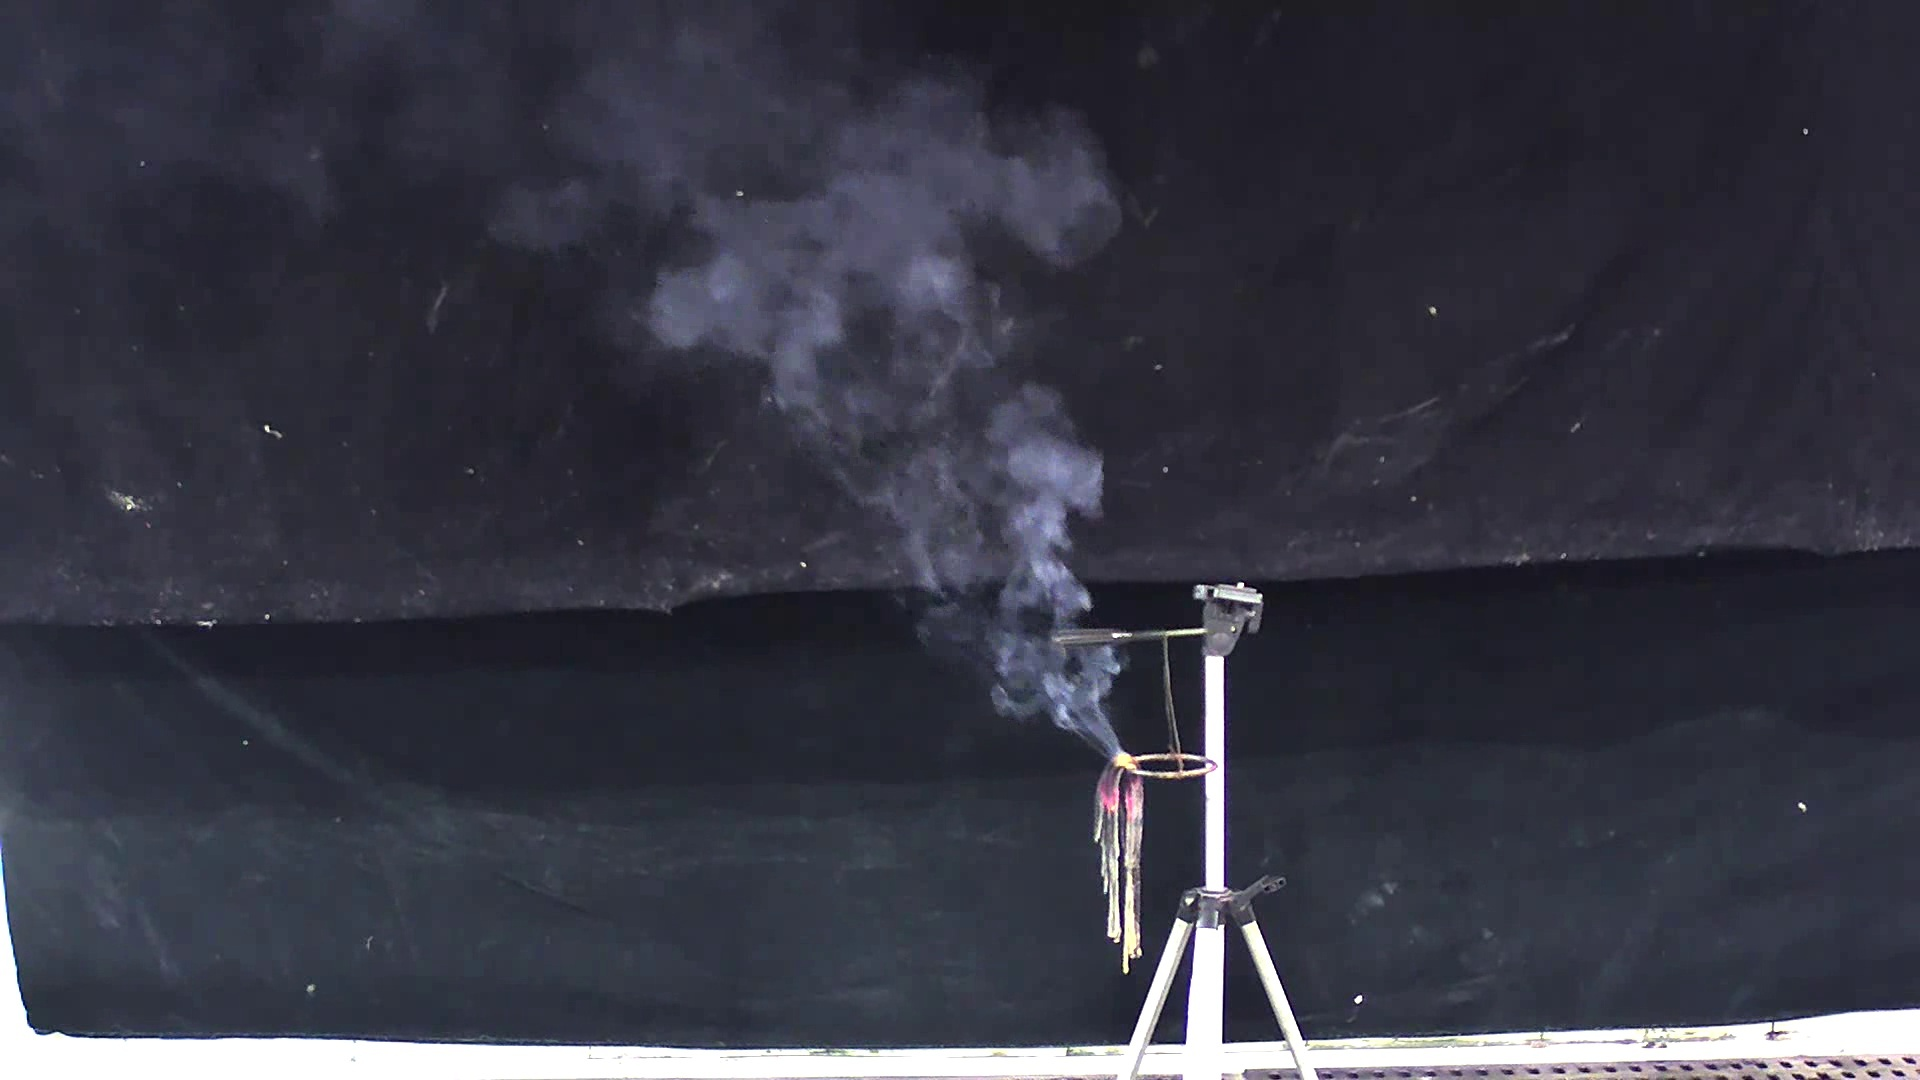smoke: (487, 9, 1146, 756)
